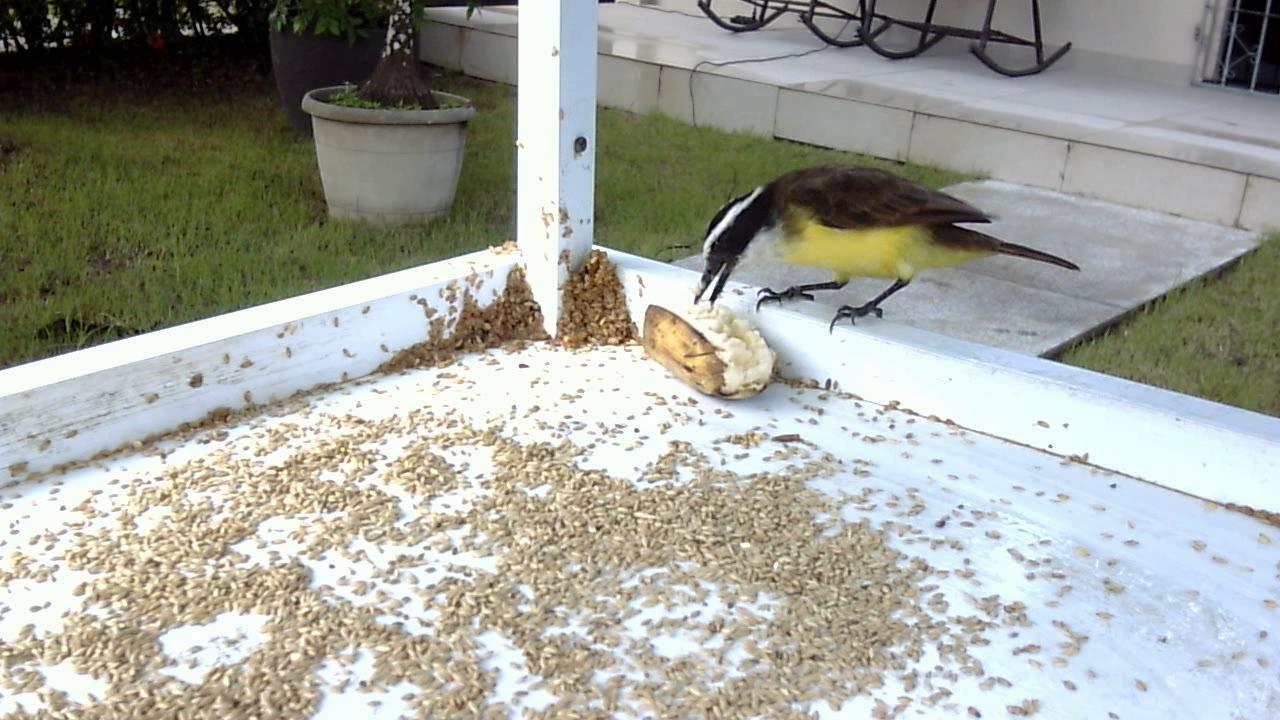bem_te_vi: (676, 143, 1090, 360)
